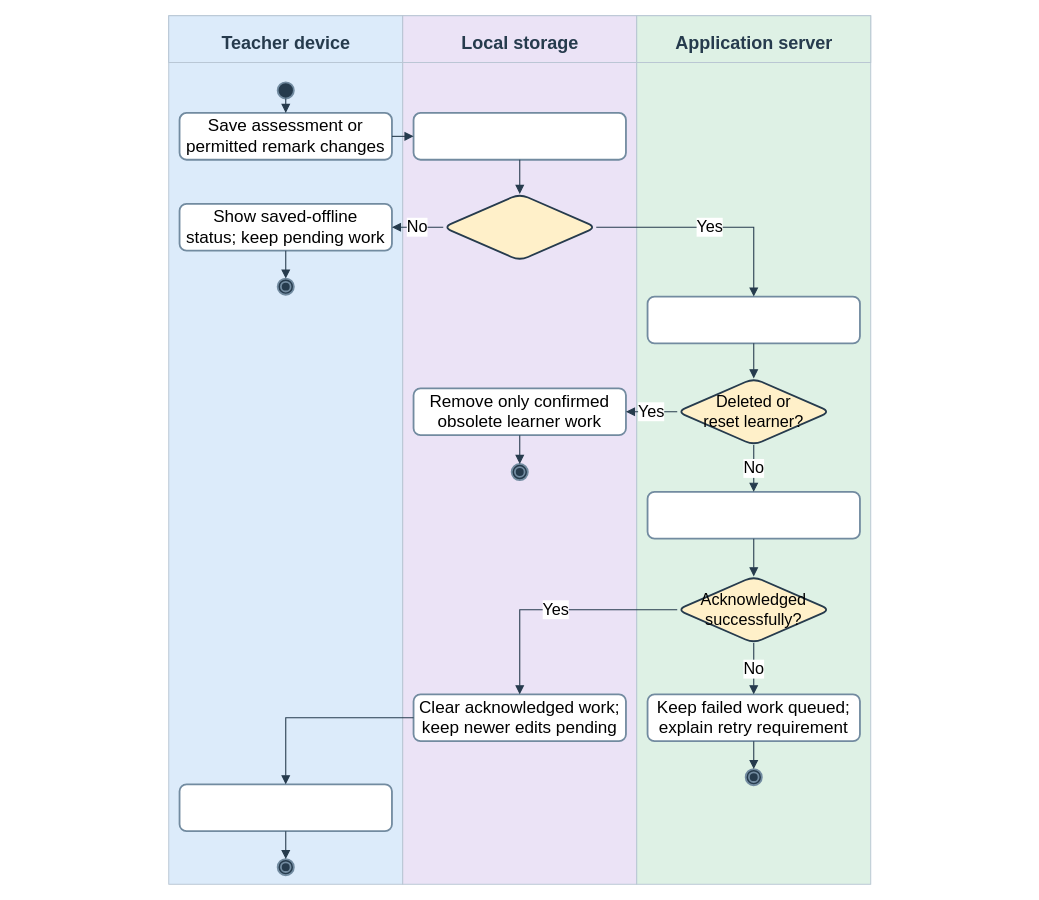
This 1039x900 diagram has some shape labels left out. The shapes that lost their labels are listed below. From the top down, each one's centre as x and y in pixels, then its label:
[519,136]: Persist class identity and ordered queue
[519,227]: Internet reachable?
[753,319]: Verify teacher ownership, class and saved contents
[753,514]: Apply ordered changes without duplicate results
[285,807]: Show green progress with item / learner details
